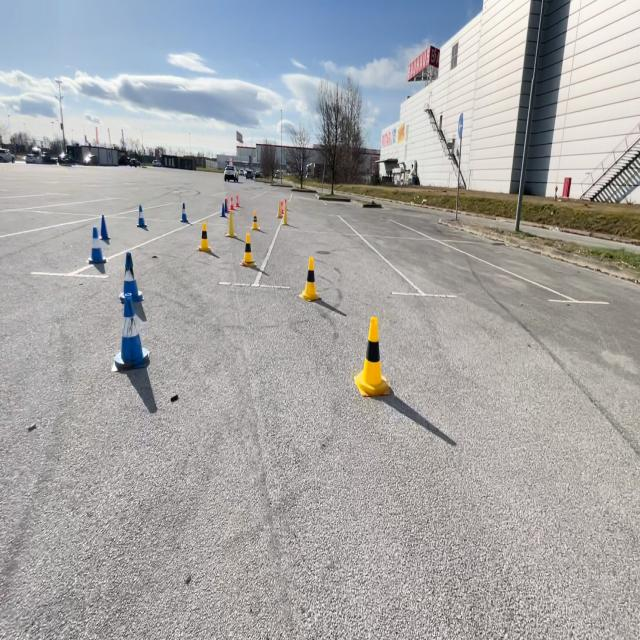blue_cone: (112, 295, 150, 371), (120, 250, 144, 306), (86, 224, 107, 265), (99, 212, 111, 246), (179, 201, 190, 224), (136, 206, 146, 230), (221, 197, 229, 214)
orange_cone: (279, 199, 288, 225), (232, 193, 239, 208)
yellow_cone: (352, 314, 391, 398), (297, 254, 320, 301), (240, 230, 256, 267), (196, 220, 213, 253), (225, 206, 237, 237), (250, 207, 261, 230)
